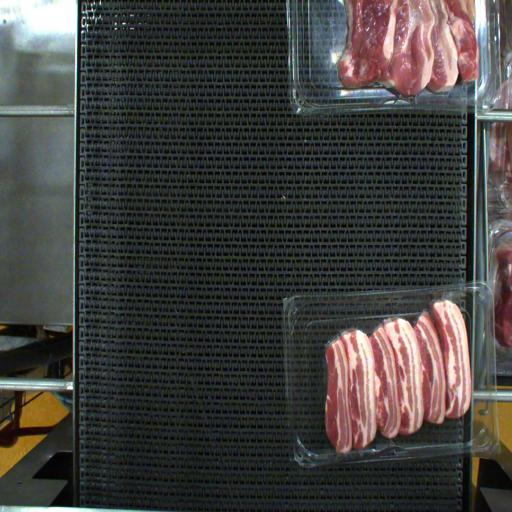packaging-error: (428, 282, 460, 316)
unsealed: (314, 320, 352, 397)
